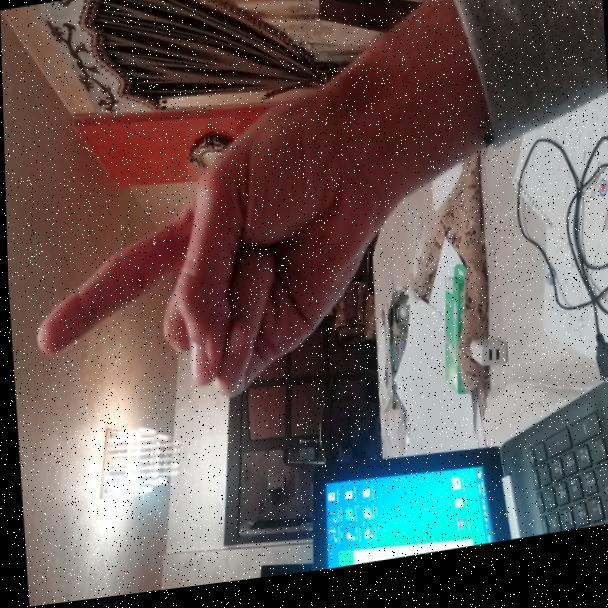one: (18, 85, 388, 434)
